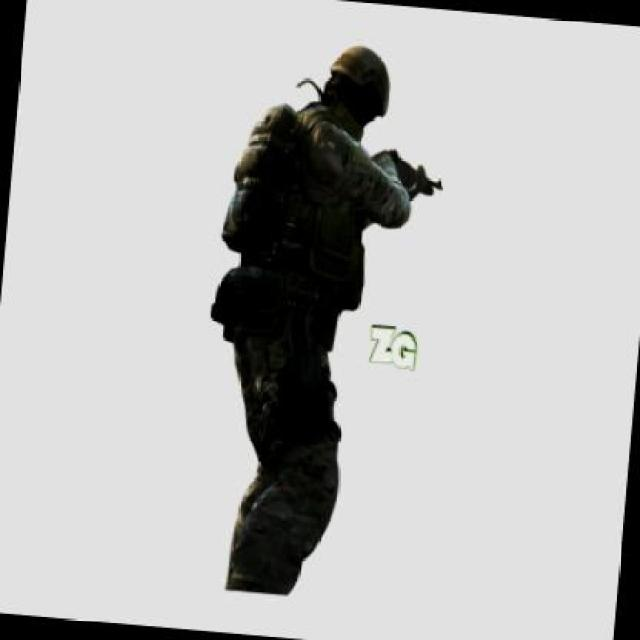MIL_Pax: (183, 28, 429, 604)
